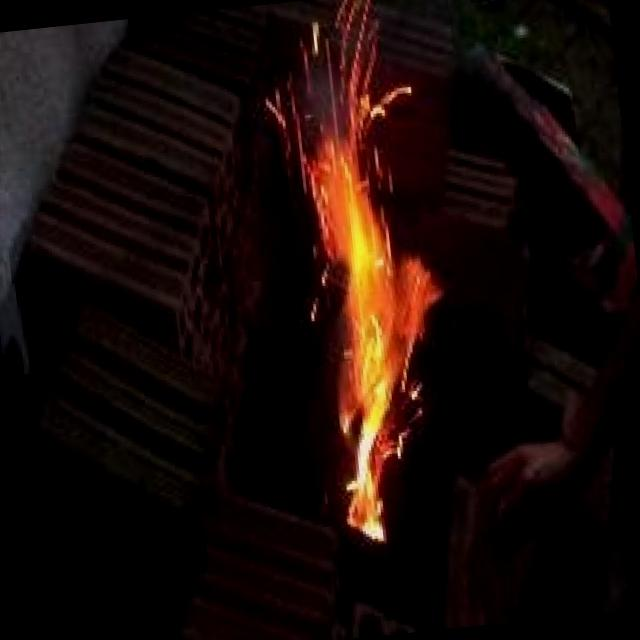fire: (223, 0, 490, 583)
